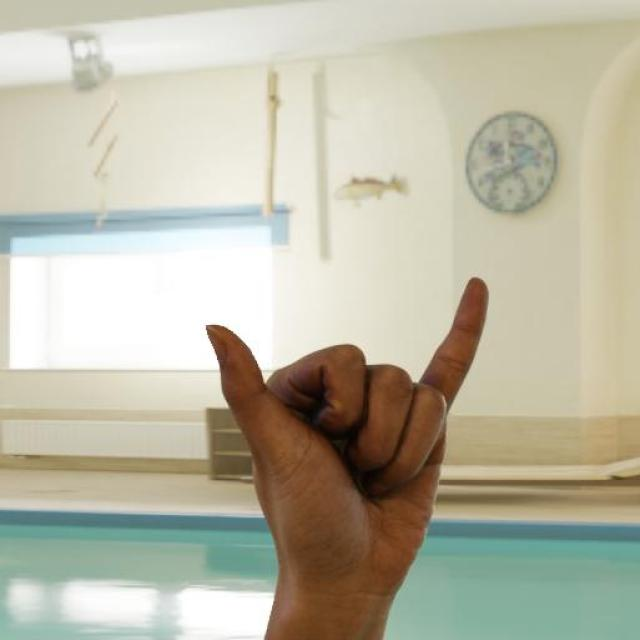Y: (198, 270, 508, 568)
